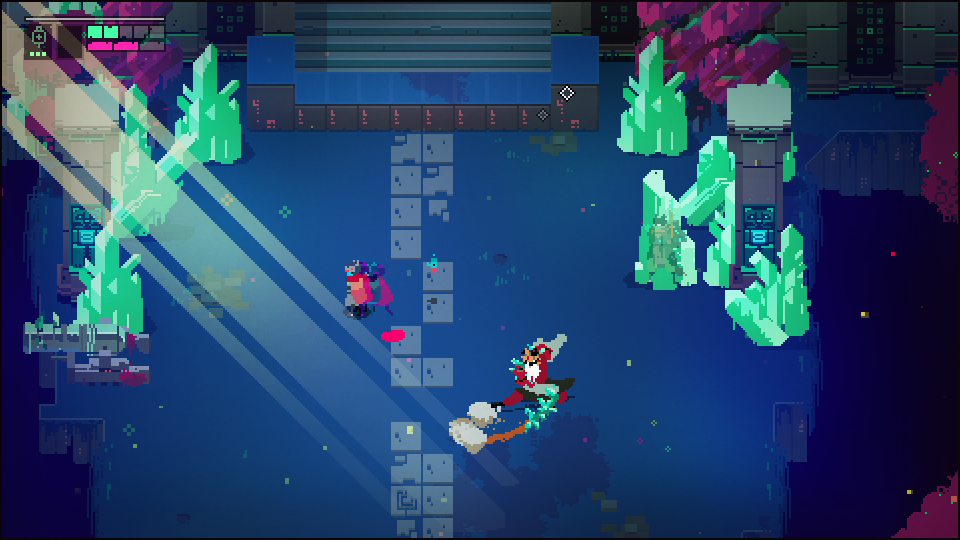hanged_man: (491, 334, 576, 435)
player: (346, 264, 374, 320)
